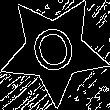O_S: (25, 18, 83, 82)
